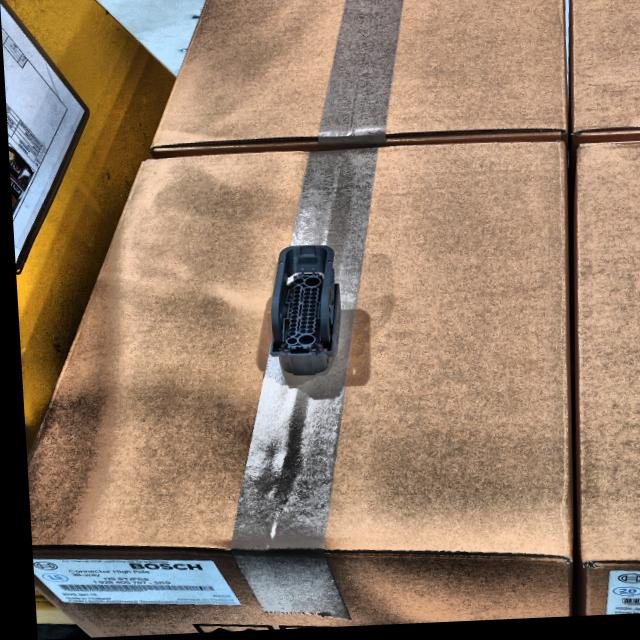P38: (265, 248, 336, 378)
